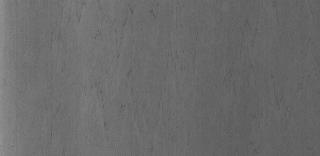silk spot: (76, 4, 204, 110)
